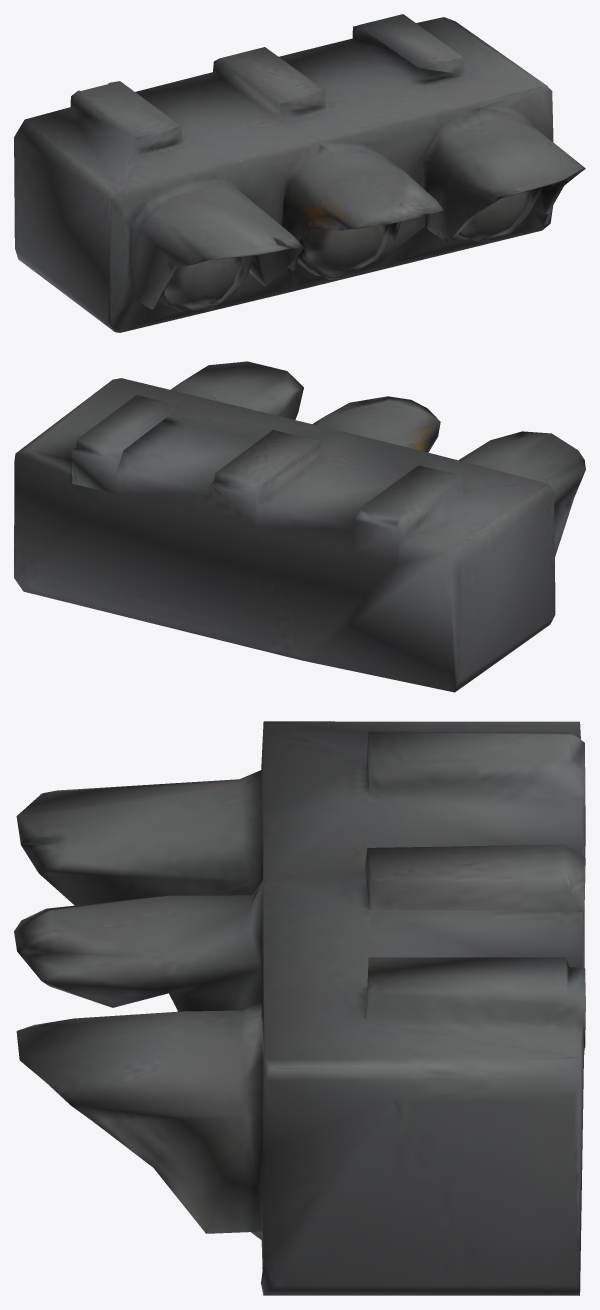
Rendered from prop3d-signal-car.glb.
3 renders of one model, top to bottom at view 1: azimuth 30°, elevation 25°; view 2: azimuth 150°, elevation 25°; view 3: azimuth 270°, elevation 25°, orthographic. The views are drawn at different scales.
Bounding box in the file's own units: 2 × 0.6945 × 1.35.
Materials: 1 (1 with a texture image).
